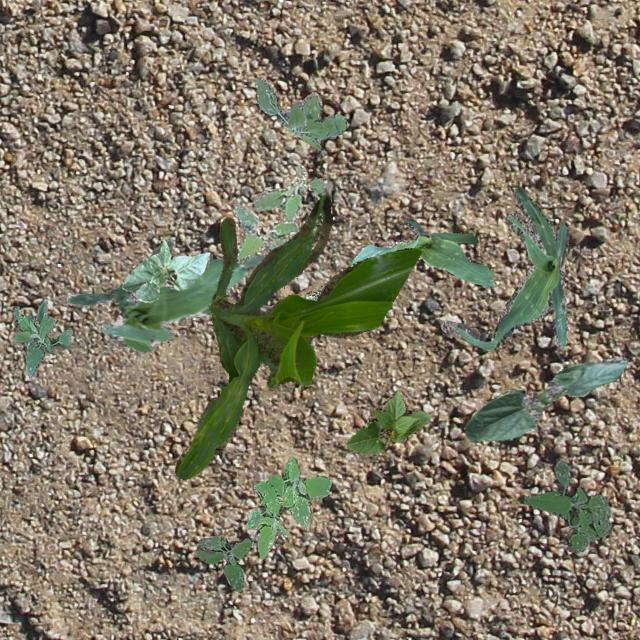crop: (174, 194, 420, 478), (65, 240, 272, 350), (441, 184, 568, 350), (306, 218, 494, 300), (462, 356, 626, 441), (120, 238, 210, 302), (344, 388, 430, 453)
weed: (232, 165, 324, 262), (244, 456, 330, 558), (522, 460, 610, 552), (254, 76, 346, 148), (12, 298, 72, 376), (194, 534, 252, 590)
